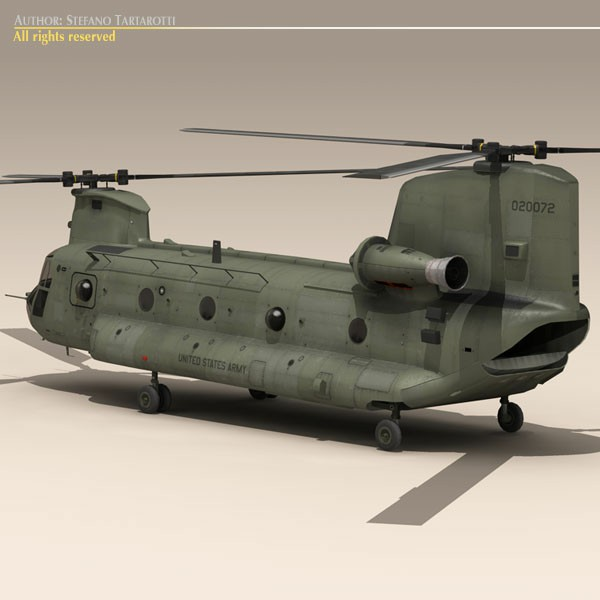chinook: (9, 127, 590, 440)
